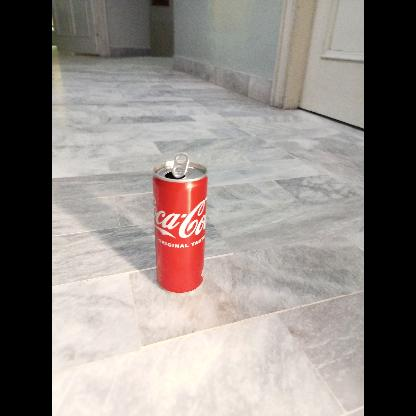Lid_Open: (165, 152, 195, 182)
Tin_Can: (152, 153, 212, 295)
